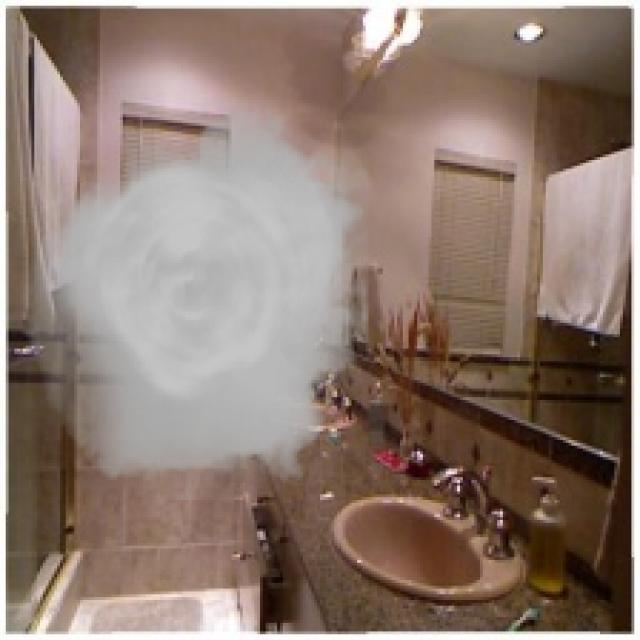Smoke: (26, 94, 368, 500)
